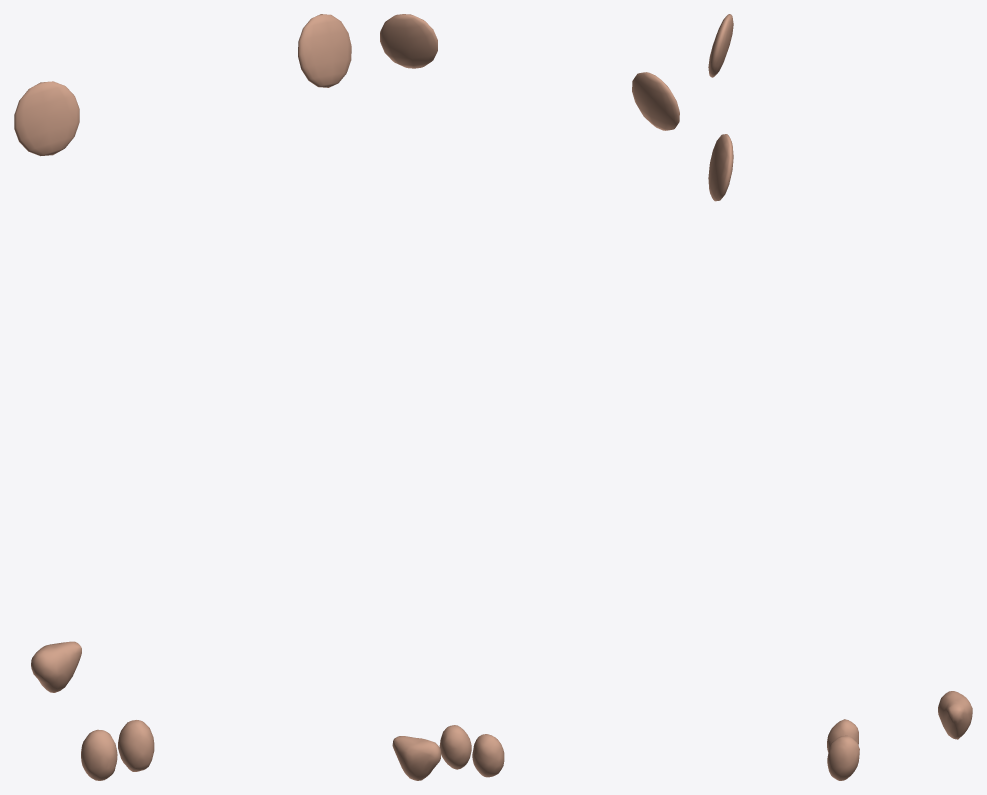
File: pediatric_infant_male.reproductive.LOD0.glb
3 renders of one model, left to right at view 1: azimuth 30°, elevation 25°; view 2: azimuth 150°, elevation 25°; view 3: azimuth 270°, elevation 25°, orthographic. The views are drawn at different scales.
Parts seen in each view (by area): view 1: PEDIATRIC.INFANT.MALE.REPRODUCTIVE.BREAST_ADIPOSE_TISSUE.R, PEDIATRIC.INFANT.MALE.REPRODUCTIVE.BREAST_ADIPOSE_TISSUE.L, PEDIATRIC.INFANT.MALE.REPRODUCTIVE.PROSTATE, PEDIATRIC.INFANT.MALE.REPRODUCTIVE.TESTIS.L, PEDIATRIC.INFANT.MALE.REPRODUCTIVE.TESTIS.R; view 2: PEDIATRIC.INFANT.MALE.REPRODUCTIVE.BREAST_ADIPOSE_TISSUE.L, PEDIATRIC.INFANT.MALE.REPRODUCTIVE.BREAST_ADIPOSE_TISSUE.R, PEDIATRIC.INFANT.MALE.REPRODUCTIVE.PROSTATE, PEDIATRIC.INFANT.MALE.REPRODUCTIVE.TESTIS.R, PEDIATRIC.INFANT.MALE.REPRODUCTIVE.TESTIS.L; view 3: PEDIATRIC.INFANT.MALE.REPRODUCTIVE.BREAST_ADIPOSE_TISSUE.L, PEDIATRIC.INFANT.MALE.REPRODUCTIVE.PROSTATE, PEDIATRIC.INFANT.MALE.REPRODUCTIVE.TESTIS.L, PEDIATRIC.INFANT.MALE.REPRODUCTIVE.BREAST_ADIPOSE_TISSUE.R, PEDIATRIC.INFANT.MALE.REPRODUCTIVE.TESTIS.R.
Boxes of the visible parts, bbox=[...] form: PEDIATRIC.INFANT.MALE.REPRODUCTIVE.BREAST_ADIPOSE_TISSUE.R: bbox=[14, 81, 79, 156]; PEDIATRIC.INFANT.MALE.REPRODUCTIVE.BREAST_ADIPOSE_TISSUE.L: bbox=[298, 14, 351, 87]; PEDIATRIC.INFANT.MALE.REPRODUCTIVE.PROSTATE: bbox=[31, 641, 81, 692]; PEDIATRIC.INFANT.MALE.REPRODUCTIVE.TESTIS.L: bbox=[118, 720, 154, 771]; PEDIATRIC.INFANT.MALE.REPRODUCTIVE.TESTIS.R: bbox=[81, 729, 117, 780]; PEDIATRIC.INFANT.MALE.REPRODUCTIVE.BREAST_ADIPOSE_TISSUE.L: bbox=[380, 14, 437, 68]; PEDIATRIC.INFANT.MALE.REPRODUCTIVE.BREAST_ADIPOSE_TISSUE.R: bbox=[632, 72, 679, 130]; PEDIATRIC.INFANT.MALE.REPRODUCTIVE.PROSTATE: bbox=[392, 736, 440, 780]; PEDIATRIC.INFANT.MALE.REPRODUCTIVE.TESTIS.R: bbox=[472, 734, 504, 777]; PEDIATRIC.INFANT.MALE.REPRODUCTIVE.TESTIS.L: bbox=[439, 725, 471, 769]; PEDIATRIC.INFANT.MALE.REPRODUCTIVE.BREAST_ADIPOSE_TISSUE.L: bbox=[708, 134, 733, 201]; PEDIATRIC.INFANT.MALE.REPRODUCTIVE.PROSTATE: bbox=[938, 691, 972, 739]; PEDIATRIC.INFANT.MALE.REPRODUCTIVE.TESTIS.L: bbox=[827, 735, 859, 780]; PEDIATRIC.INFANT.MALE.REPRODUCTIVE.BREAST_ADIPOSE_TISSUE.R: bbox=[708, 14, 733, 77]; PEDIATRIC.INFANT.MALE.REPRODUCTIVE.TESTIS.R: bbox=[827, 719, 858, 752].
Size of the model in its own units: 0.1074 by 0.2355 by 0.0812.
